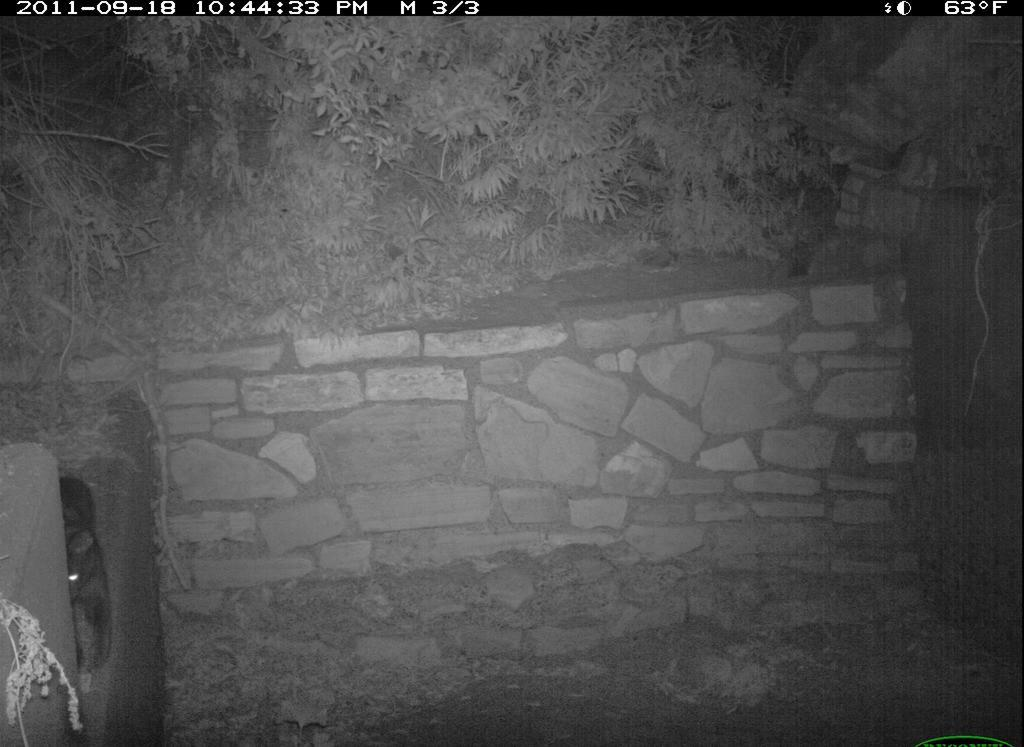cat: (34, 478, 141, 669)
